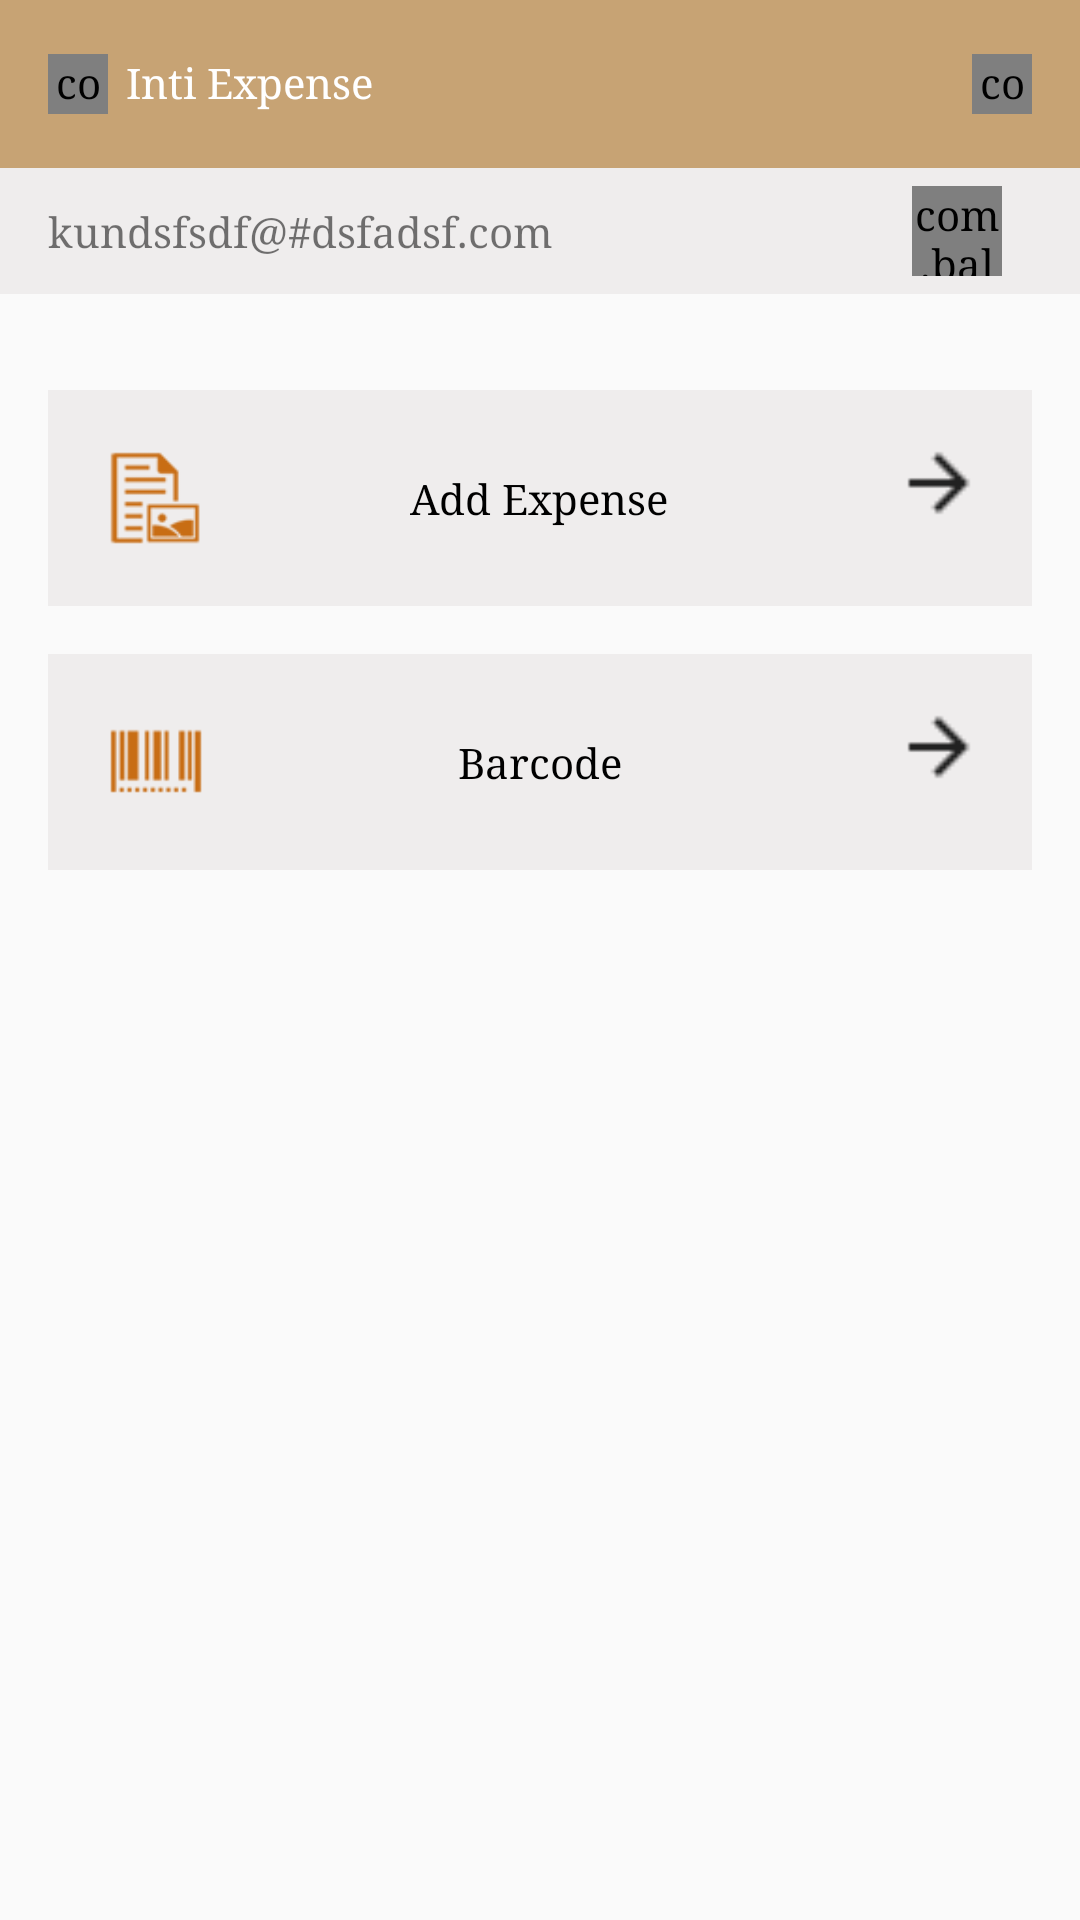

Icons on this 1080x1920 Android screen, each with its box as [left=x1, top=y1, right=x2, bottom=y2]:
arrow: [left=908, top=452, right=970, bottom=514], [left=908, top=716, right=970, bottom=778]
barcode: [left=110, top=730, right=202, bottom=793]
textimage: [left=110, top=452, right=200, bottom=544]
